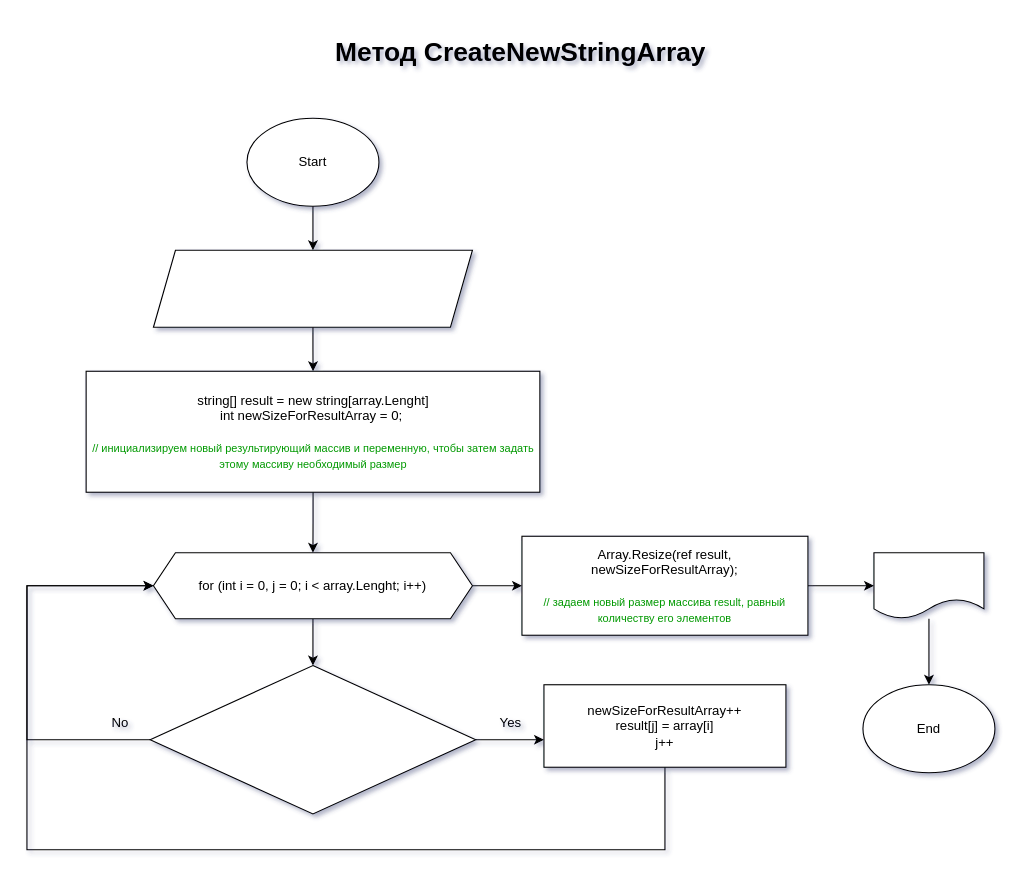
This 1021x884 diagram has some shape labels left out. The shapes that lost their labels are listed below. From the top down, each one's box as (x1, y1, x2, y2) in pixels, then its label:
(152, 249, 472, 327): string[] array = {“Hello”, “2”, “world”, “:-)”}
(873, 552, 984, 619): result
(149, 664, 476, 814): if (array[i].Lenght <= 3)
